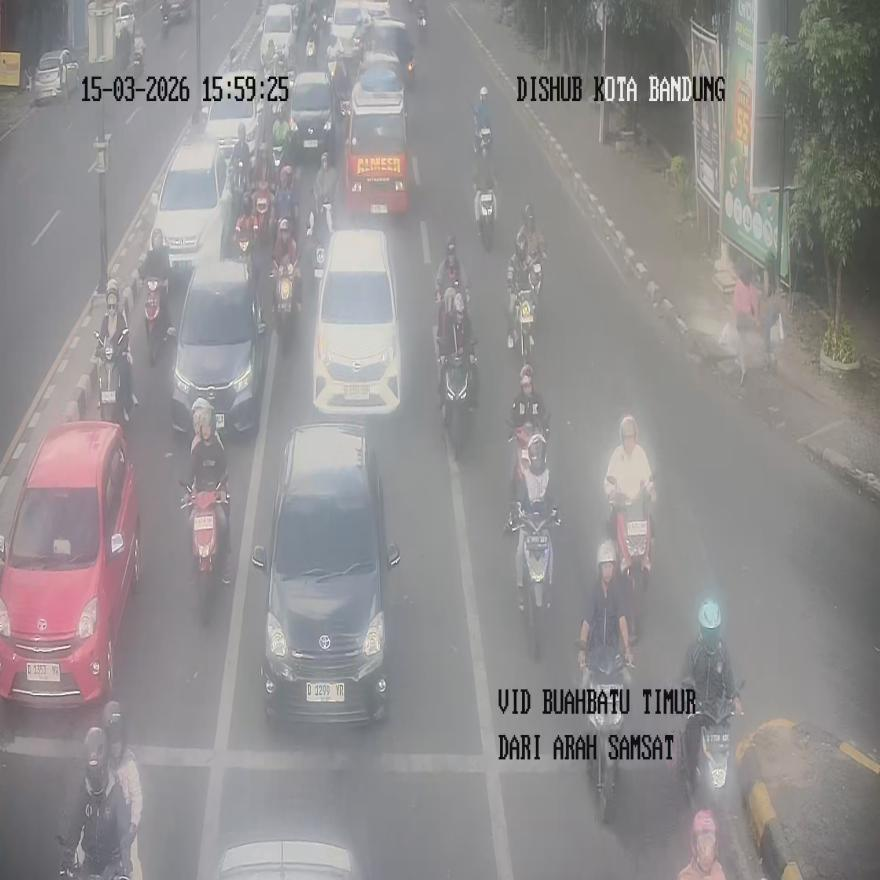Motor: (251, 424, 400, 725), (0, 421, 140, 708), (171, 258, 266, 437), (312, 229, 402, 416), (153, 134, 231, 274)
Truk: (578, 645, 633, 822), (681, 677, 743, 815), (607, 477, 653, 638), (511, 507, 558, 658), (180, 479, 228, 620), (440, 349, 476, 461), (95, 328, 133, 431), (272, 260, 300, 352), (144, 277, 171, 366), (307, 202, 332, 278), (515, 288, 536, 360), (253, 182, 274, 243), (235, 212, 254, 279), (475, 186, 494, 250), (472, 103, 491, 158)
